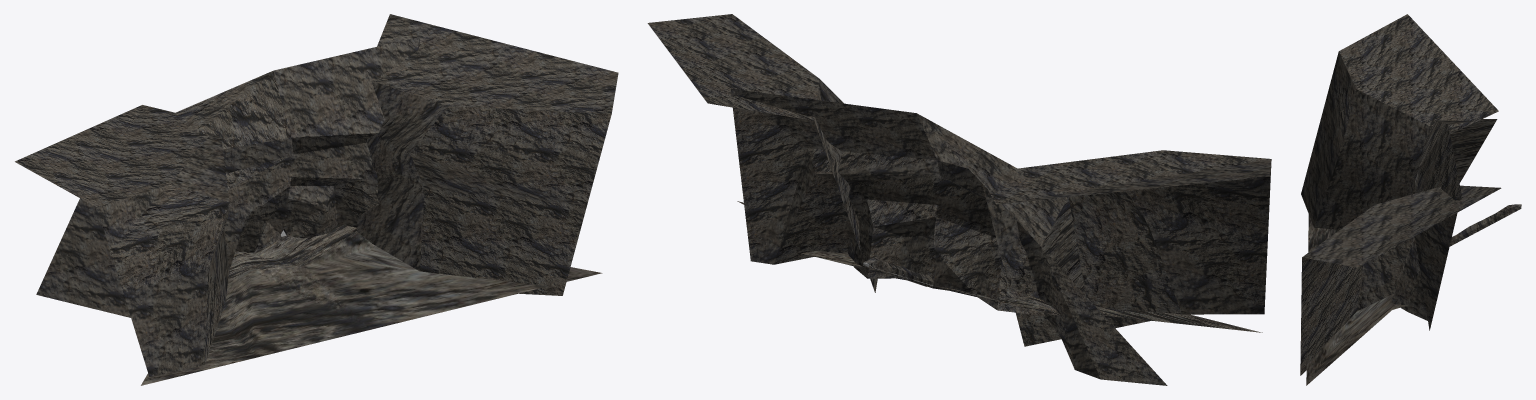
File: Env_Cavern.FBX
3 views of the same model, side by side, from view 1: azimuth 30°, elevation 25°; view 2: azimuth 150°, elevation 25°; view 3: azimuth 270°, elevation 25° (orthographic). The views are drawn at different scales.
Visible parts, largest first — view 1: Cavern_Mesh; view 2: Cavern_Mesh; view 3: Cavern_Mesh.
Boxes of the visible parts, <box> form: Cavern_Mesh: <box>15,14,618,385</box>; Cavern_Mesh: <box>647,14,1271,385</box>; Cavern_Mesh: <box>1300,14,1521,385</box>.
Size of what is drawn, in the model's own units: 44230 by 15356 by 17962.
Materials: 4 (4 with a texture image).
